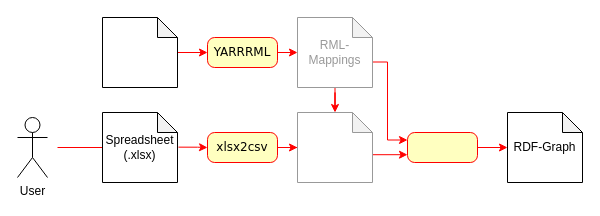
This 600x216 diagram has some shape labels left out. The centre of each missing label's shape, as x and y in pixels:
"RML-Mapper" goes at point 442,147.
"Tables (.csv)" goes at point 334,147.
"YARRRML-Mappings" goes at point 140,52.
